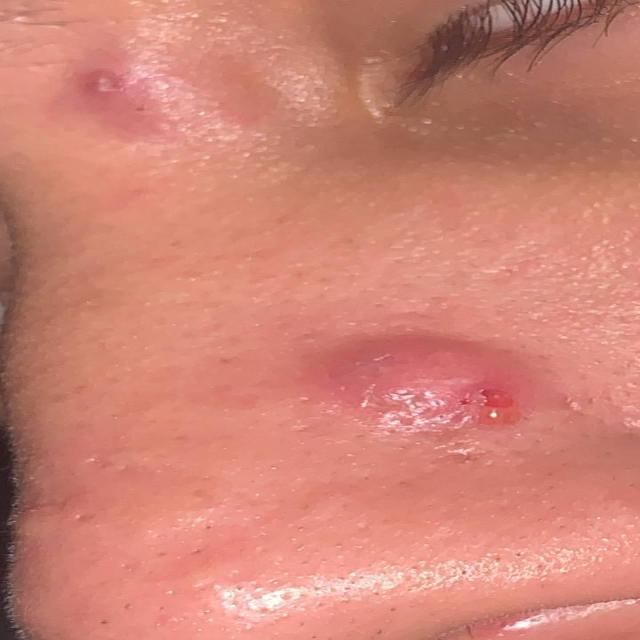nodule: (332, 338, 522, 428), (84, 51, 272, 134)
